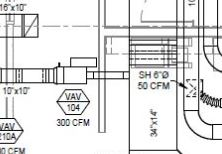VAV: (53, 55, 98, 87)
